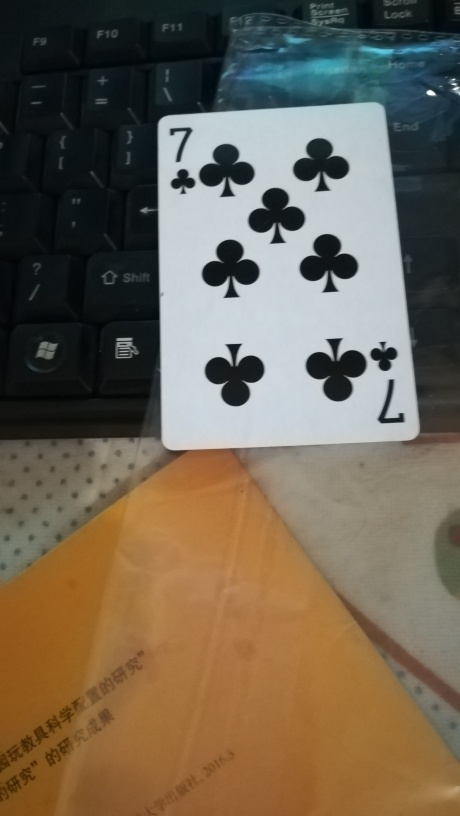mh 7: (156, 105, 418, 448)
